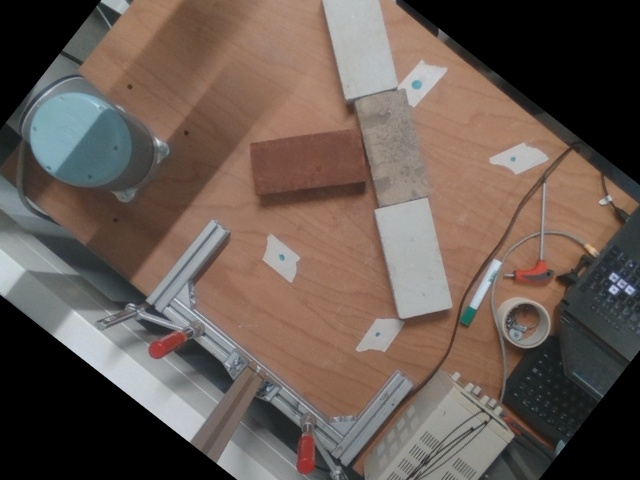brick: (379, 201, 447, 314), (359, 93, 422, 203), (256, 130, 364, 191), (324, 0, 393, 92)
